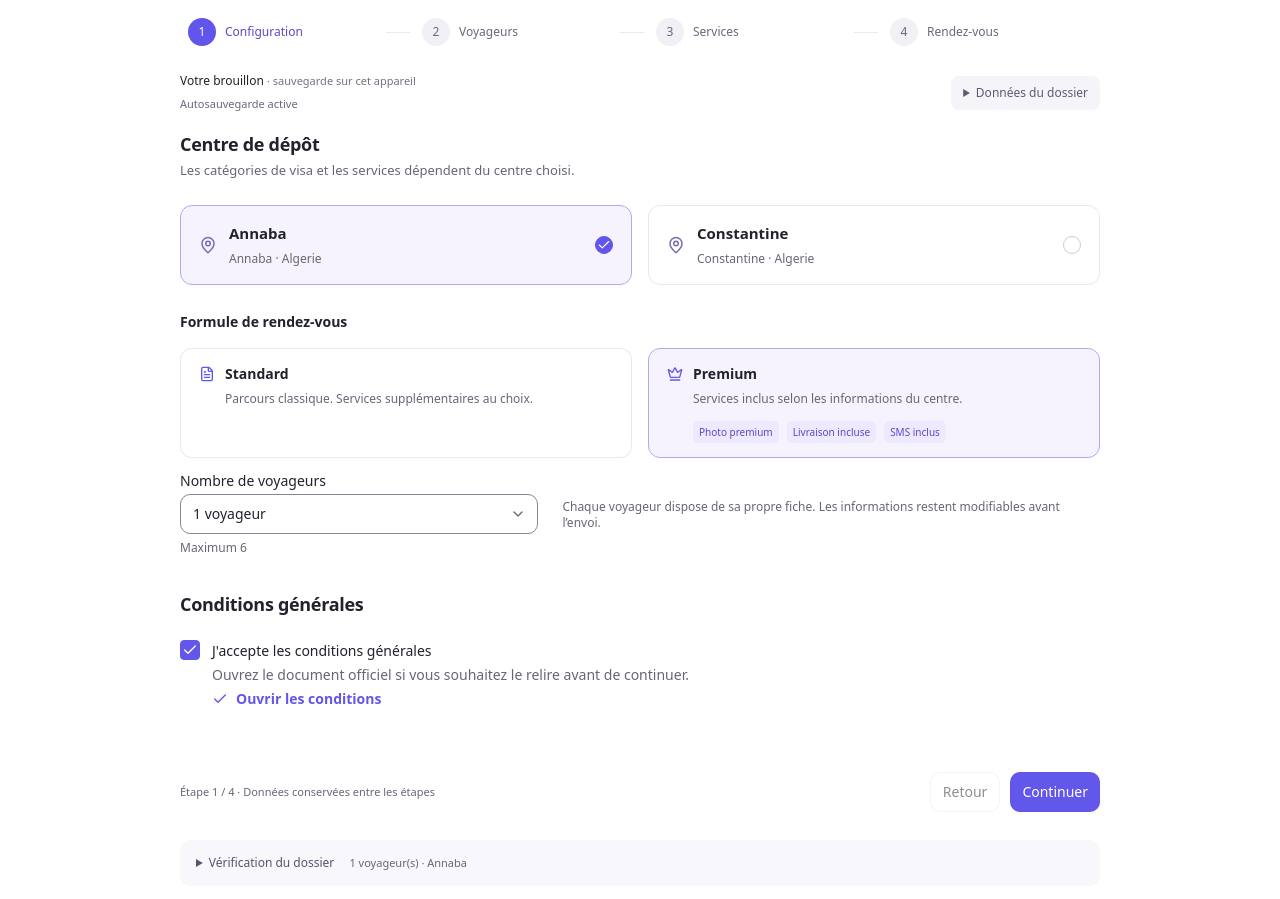
BookingShell flow › switches to Constantine without keeping stale visa selections
Click the button "Constantine Constantine · Algerie" at point(743, 233), box [648,205,1100,285]
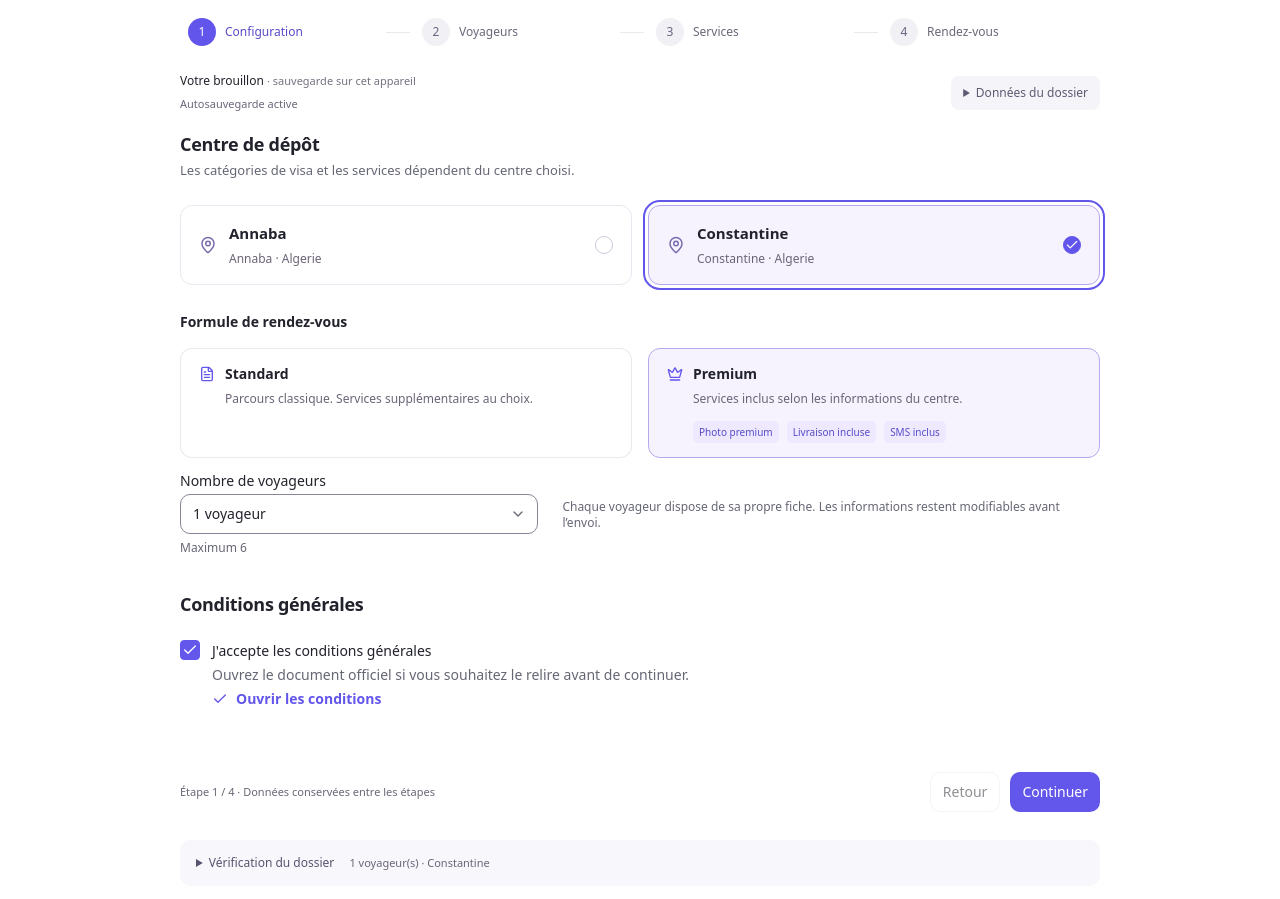
Click the button "Continuer" at point(1055, 792), box [1010,772,1100,812]
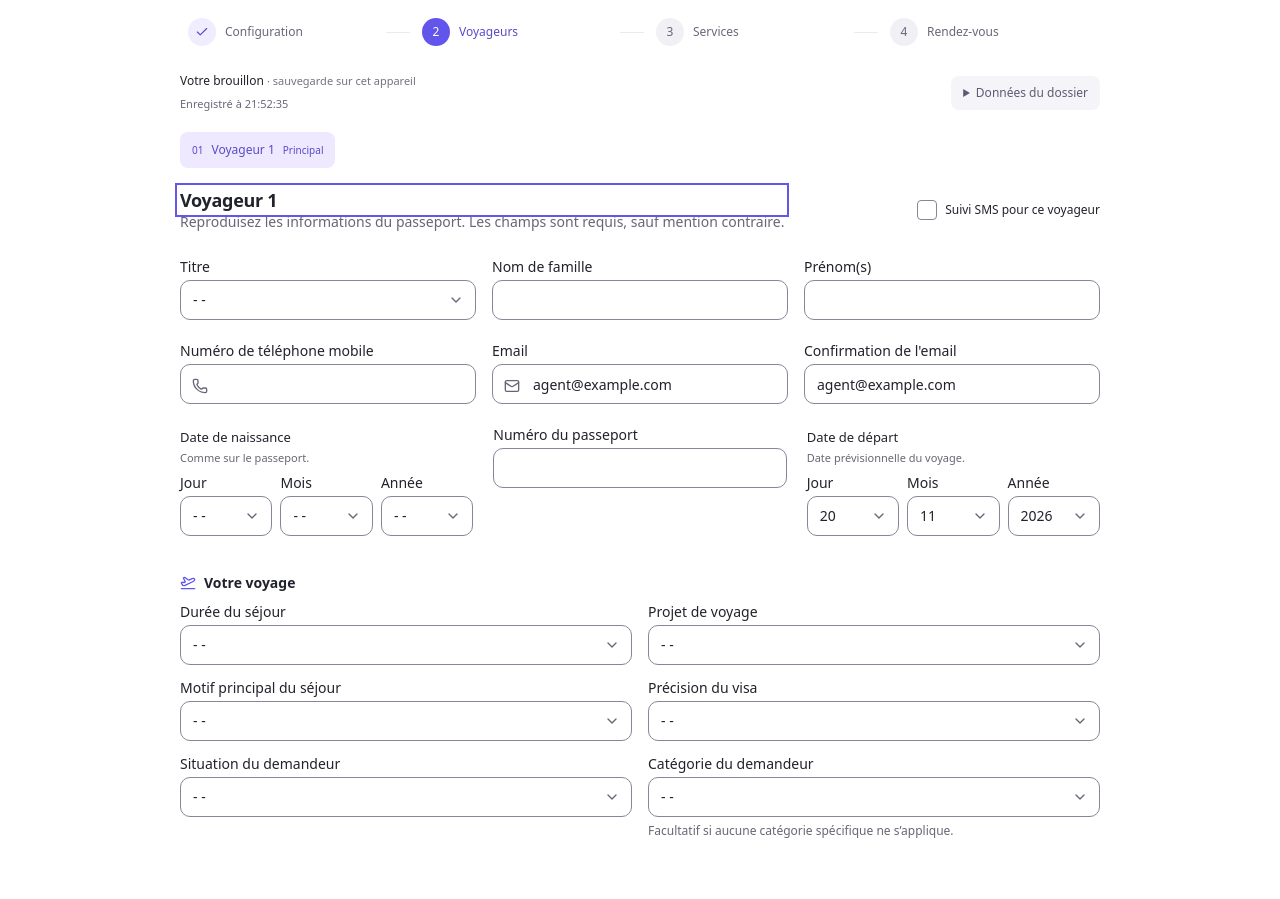
Check: the heading "Voyageur 1" is shown, box [180,188,277,212]
Check: the dropdown labelled "Durée du séjour" shows "- -", box [180,624,632,664]
Check: the dropdown labelled "Projet de voyage" shows "- -", box [648,624,1100,664]
